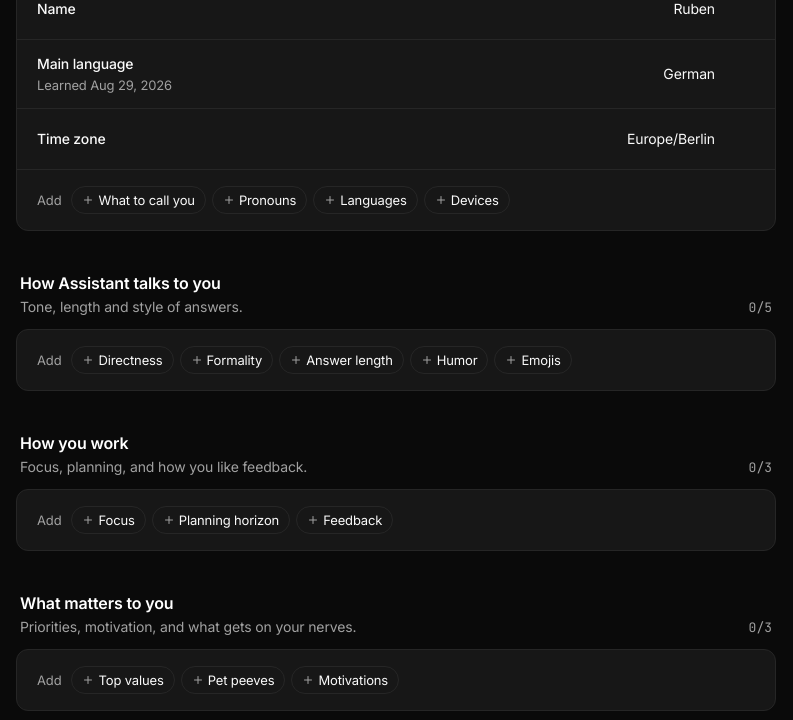
Test case: details › opens the editor for a missing detail from its chip
(page scrolled)
Click the button "Answer length". click: (341, 360)
box: [279,346,404,374]
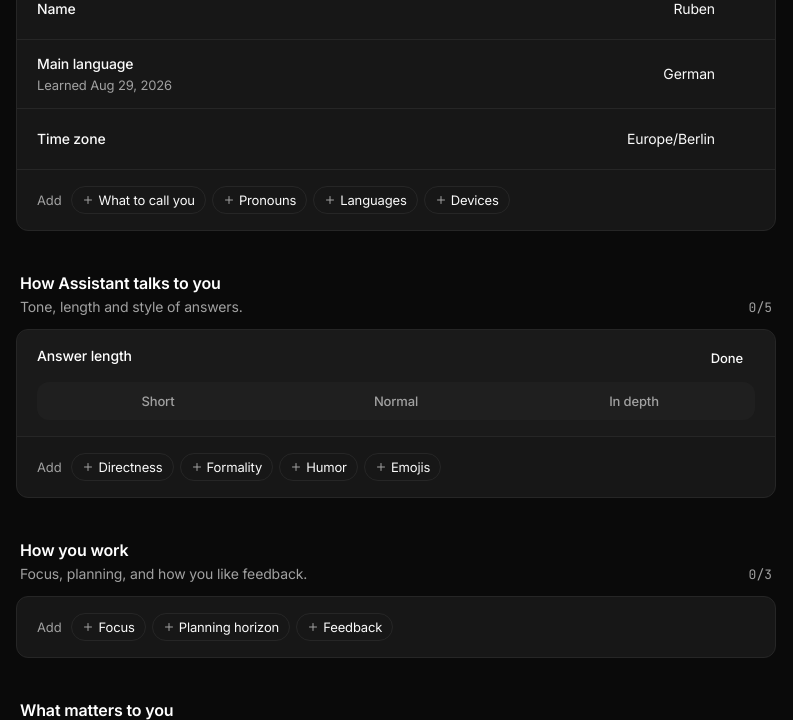
Check: the radio button labelled "In depth" is shown, box [517,386,751,416]
